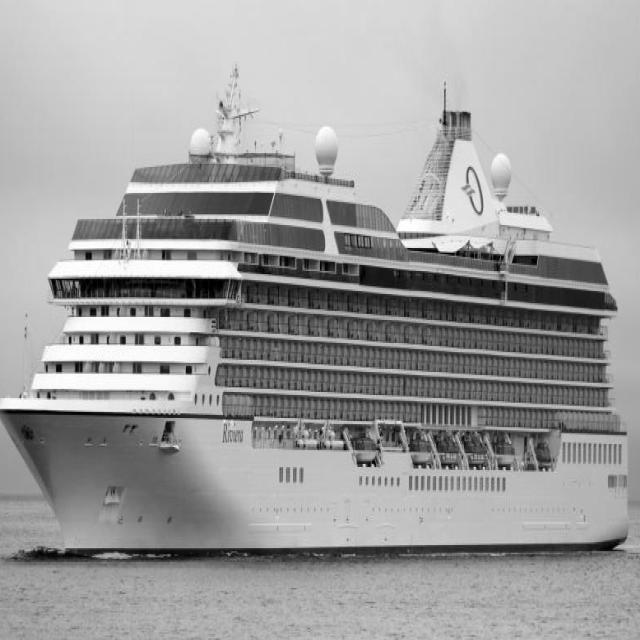cruises: (1, 56, 637, 563)
